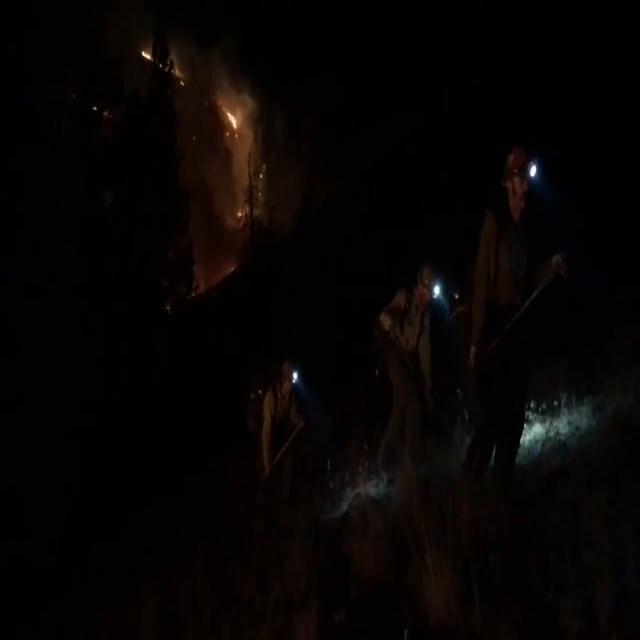Fire: (130, 36, 250, 282)
